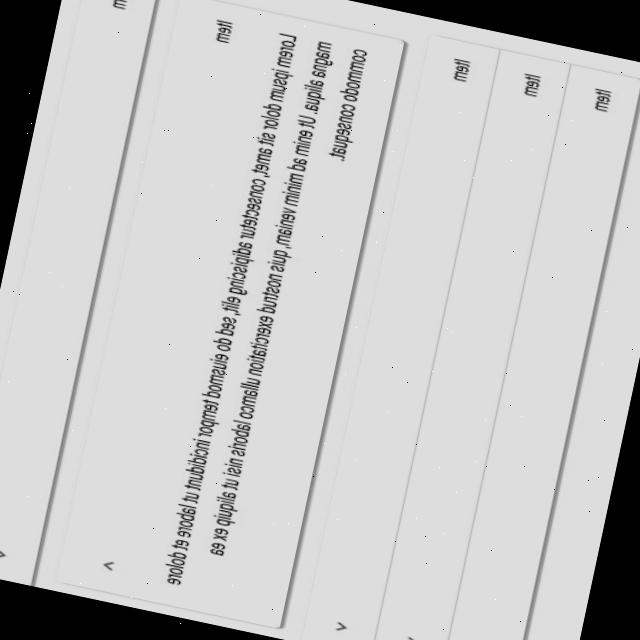VExpansionPanels: (56, 0, 409, 630), (297, 32, 640, 640), (0, 0, 165, 587)
